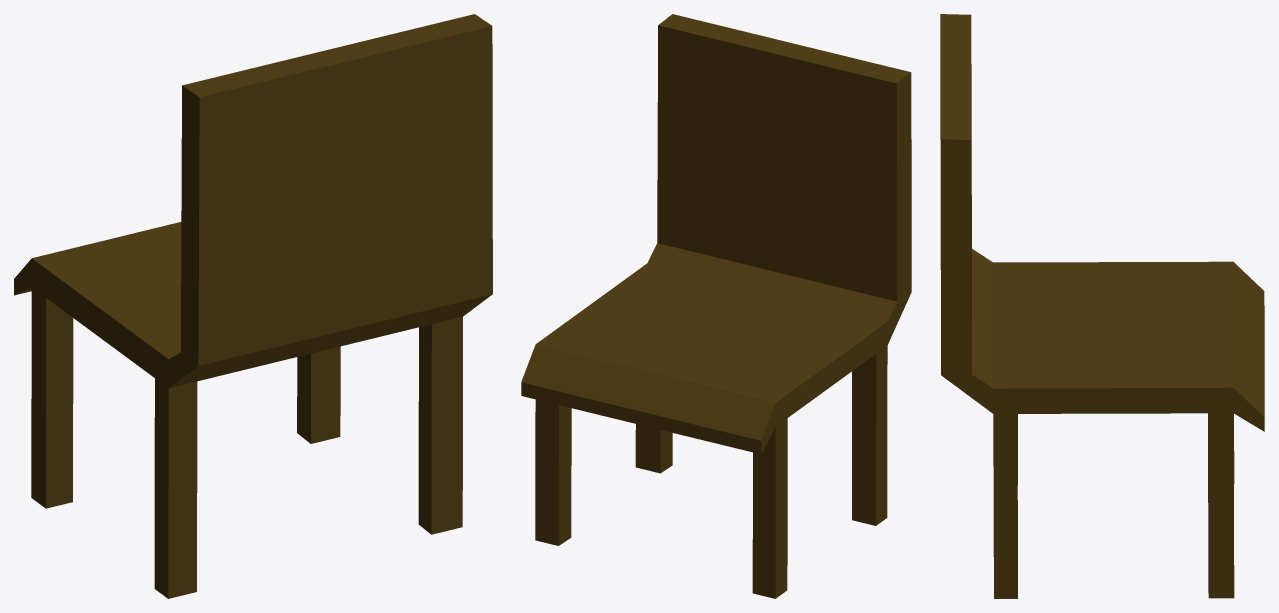
The model's file is cadeira.obj.
3 renders of one model, left to right at view 1: azimuth 30°, elevation 25°; view 2: azimuth 150°, elevation 25°; view 3: azimuth 270°, elevation 25°, orthographic. The views are drawn at different scales.
Parts seen in each view (by area): view 1: Cube_Cube; view 2: Cube_Cube; view 3: Cube_Cube.
Boxes of the visible parts, x1,y1,x2,y2 form: Cube_Cube: (14,14,492,598); Cube_Cube: (521,14,911,598); Cube_Cube: (940,14,1264,598).
Size of the model in its own units: 8.02 by 13.63 by 8.71.
